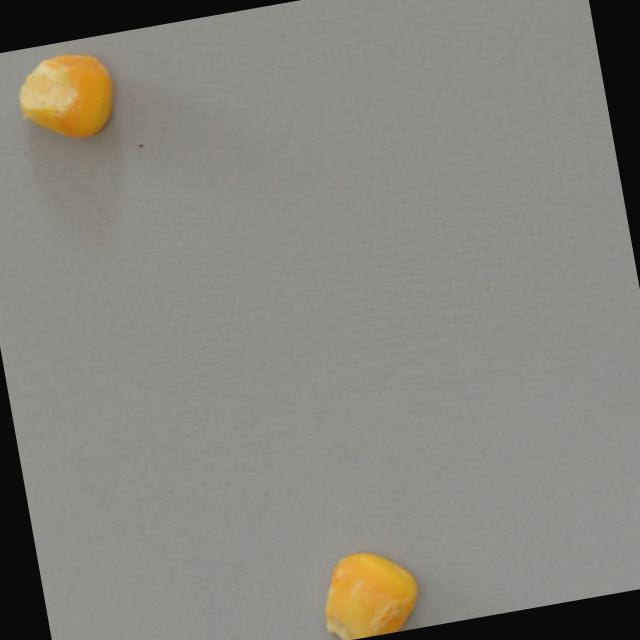no_desgerminado: (4, 45, 122, 149), (310, 541, 425, 640)
